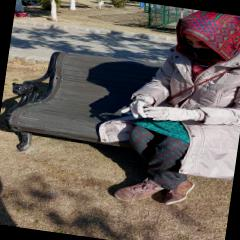gloved: (142, 104, 198, 126), (120, 93, 151, 119)
